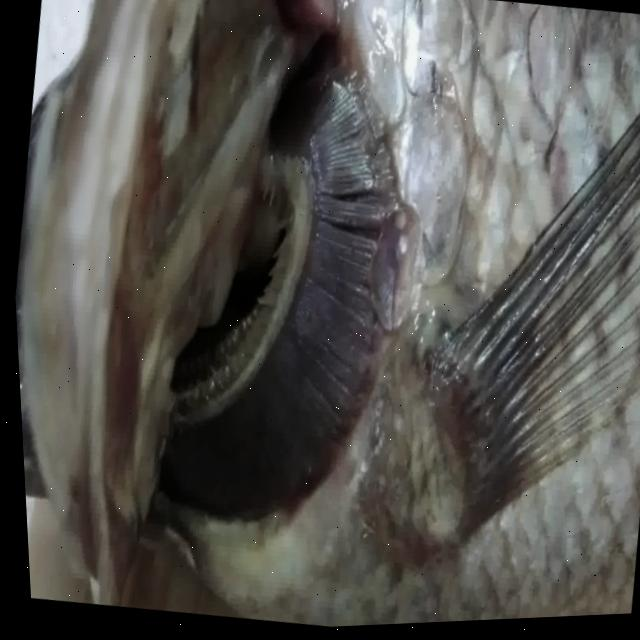Non-Fresh: (135, 42, 452, 574)
